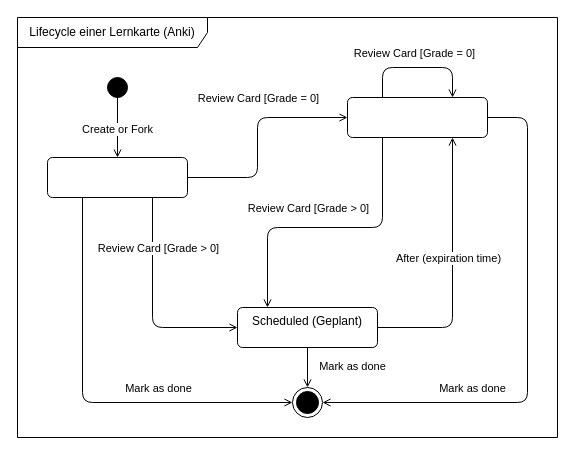
The diagram is 575 pixels wide and 455 high, and some of its shapes have lost their labels. Each missing label, with the box of its shape:
Due (Ausstehend): (346, 96, 488, 138)
New (Neu): (46, 156, 188, 198)
